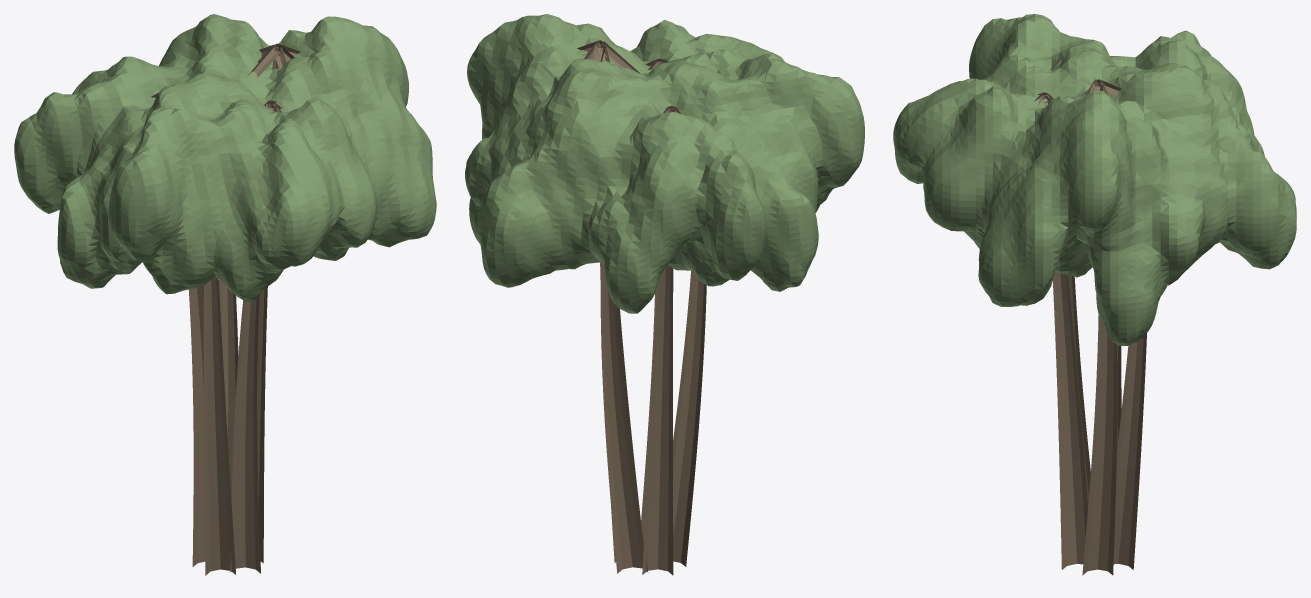
Rendered from taiga_willow.glb.
The picture shows the model from 3 angles, left to right: view 1: azimuth 30°, elevation 25°; view 2: azimuth 150°, elevation 25°; view 3: azimuth 270°, elevation 25°; orthographic projection.
Parts seen in each view (by area): view 1: taiga_willow; view 2: taiga_willow; view 3: taiga_willow.
Part boxes in pixels (box(x1,y1,x2,y2)): taiga_willow: box(14, 14, 436, 575); taiga_willow: box(465, 14, 864, 575); taiga_willow: box(893, 14, 1296, 575).
Size of the model in its own units: 3.29 by 4.82 by 3.36.
